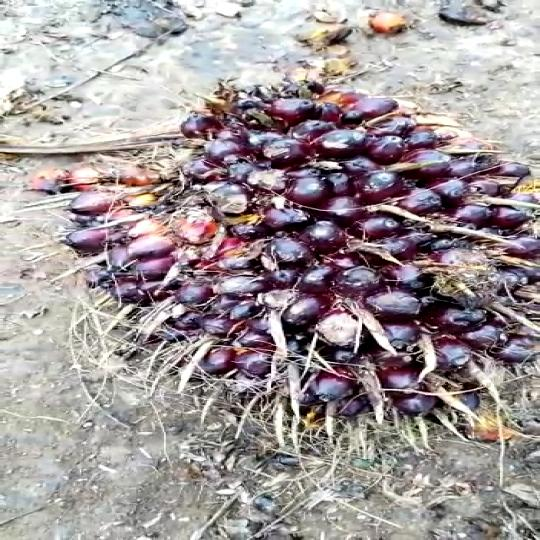mentah: (56, 65, 540, 459)
